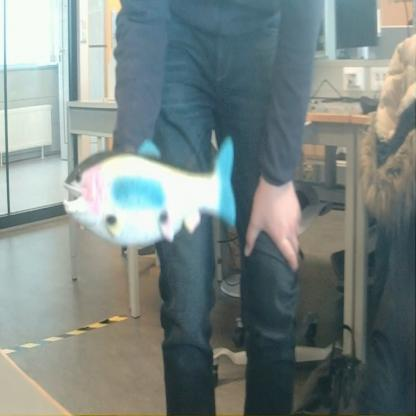rubberfish: (60, 130, 242, 252)
